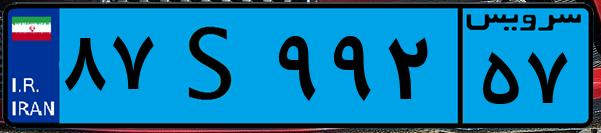2: (385, 28, 445, 110)
5: (475, 38, 525, 113)
7: (525, 38, 570, 115), (110, 28, 158, 98)
8: (57, 26, 110, 100)
9: (270, 28, 330, 110), (330, 28, 385, 110)
S: (158, 12, 270, 120)
